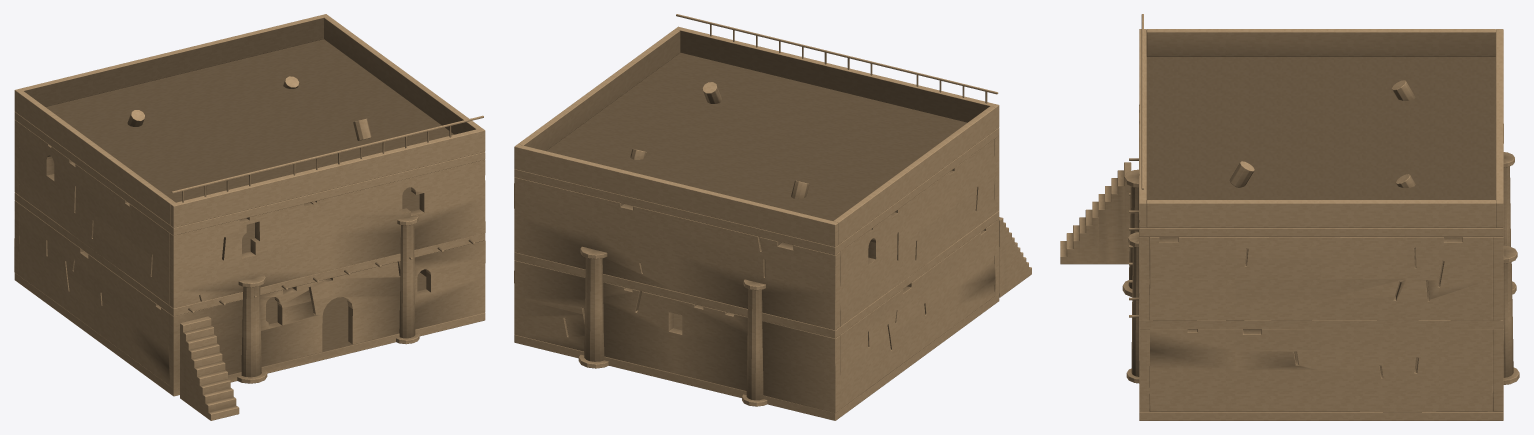
File: block_10.glb
3 renders of one model, left to right at view 1: azimuth 30°, elevation 25°; view 2: azimuth 150°, elevation 25°; view 3: azimuth 270°, elevation 25°, orthographic. The views are drawn at different scales.
Visible parts, largest first — view 1: block; view 2: block; view 3: block.
Boxes of the visible parts, x1,y1,x2,y2 form: block: (14, 14, 485, 420); block: (514, 14, 1031, 420); block: (1060, 14, 1519, 420).
Bounding box in the file's own units: 16.49 × 10.27 × 18.33.
1 material, 1 textured.
